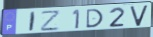1: (72, 9, 81, 30)
2: (108, 6, 126, 28)
D: (85, 8, 105, 29)
I: (28, 11, 37, 33)
V: (129, 4, 149, 27)
Z: (40, 9, 62, 32)
